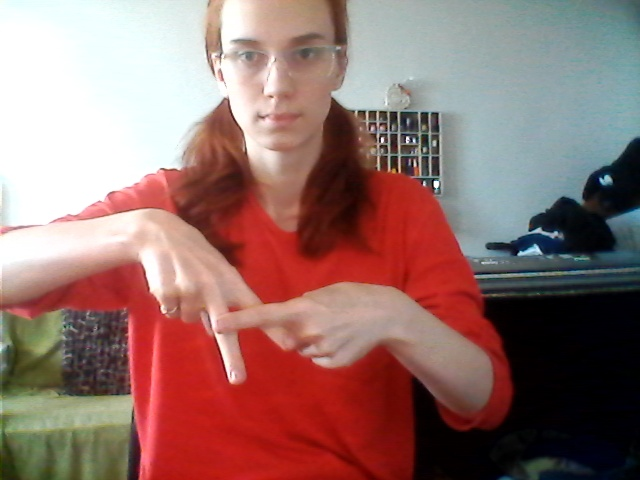a: (156, 271, 342, 399)
